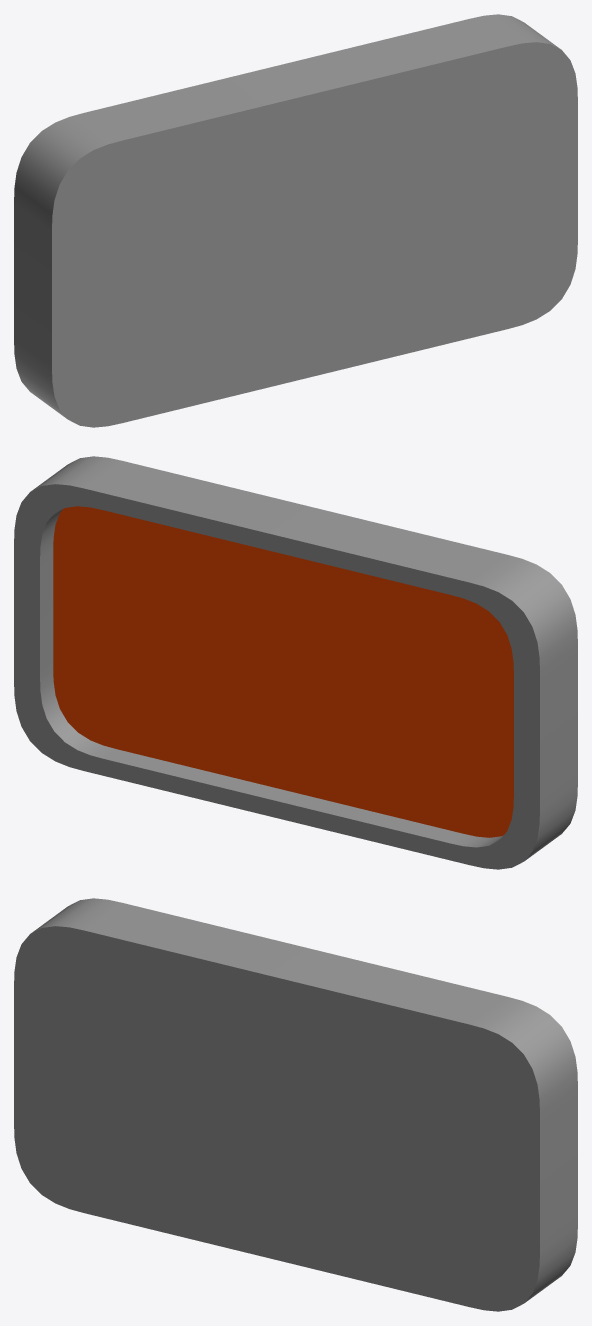
Rendered from Panneau.fbx.
The picture shows the model from 3 angles, top to bottom: view 1: azimuth 30°, elevation 25°; view 2: azimuth 150°, elevation 25°; view 3: azimuth 330°, elevation 25°; orthographic projection.
Visible parts, largest first — view 1: Panneau; view 2: Panneau; view 3: Panneau.
Part boxes in pixels (x1,y1,x2,y2): Panneau: (14,14,577,427); Panneau: (14,456,577,869); Panneau: (14,898,577,1311).
Size of the model in its own units: 400 by 205 by 50.
